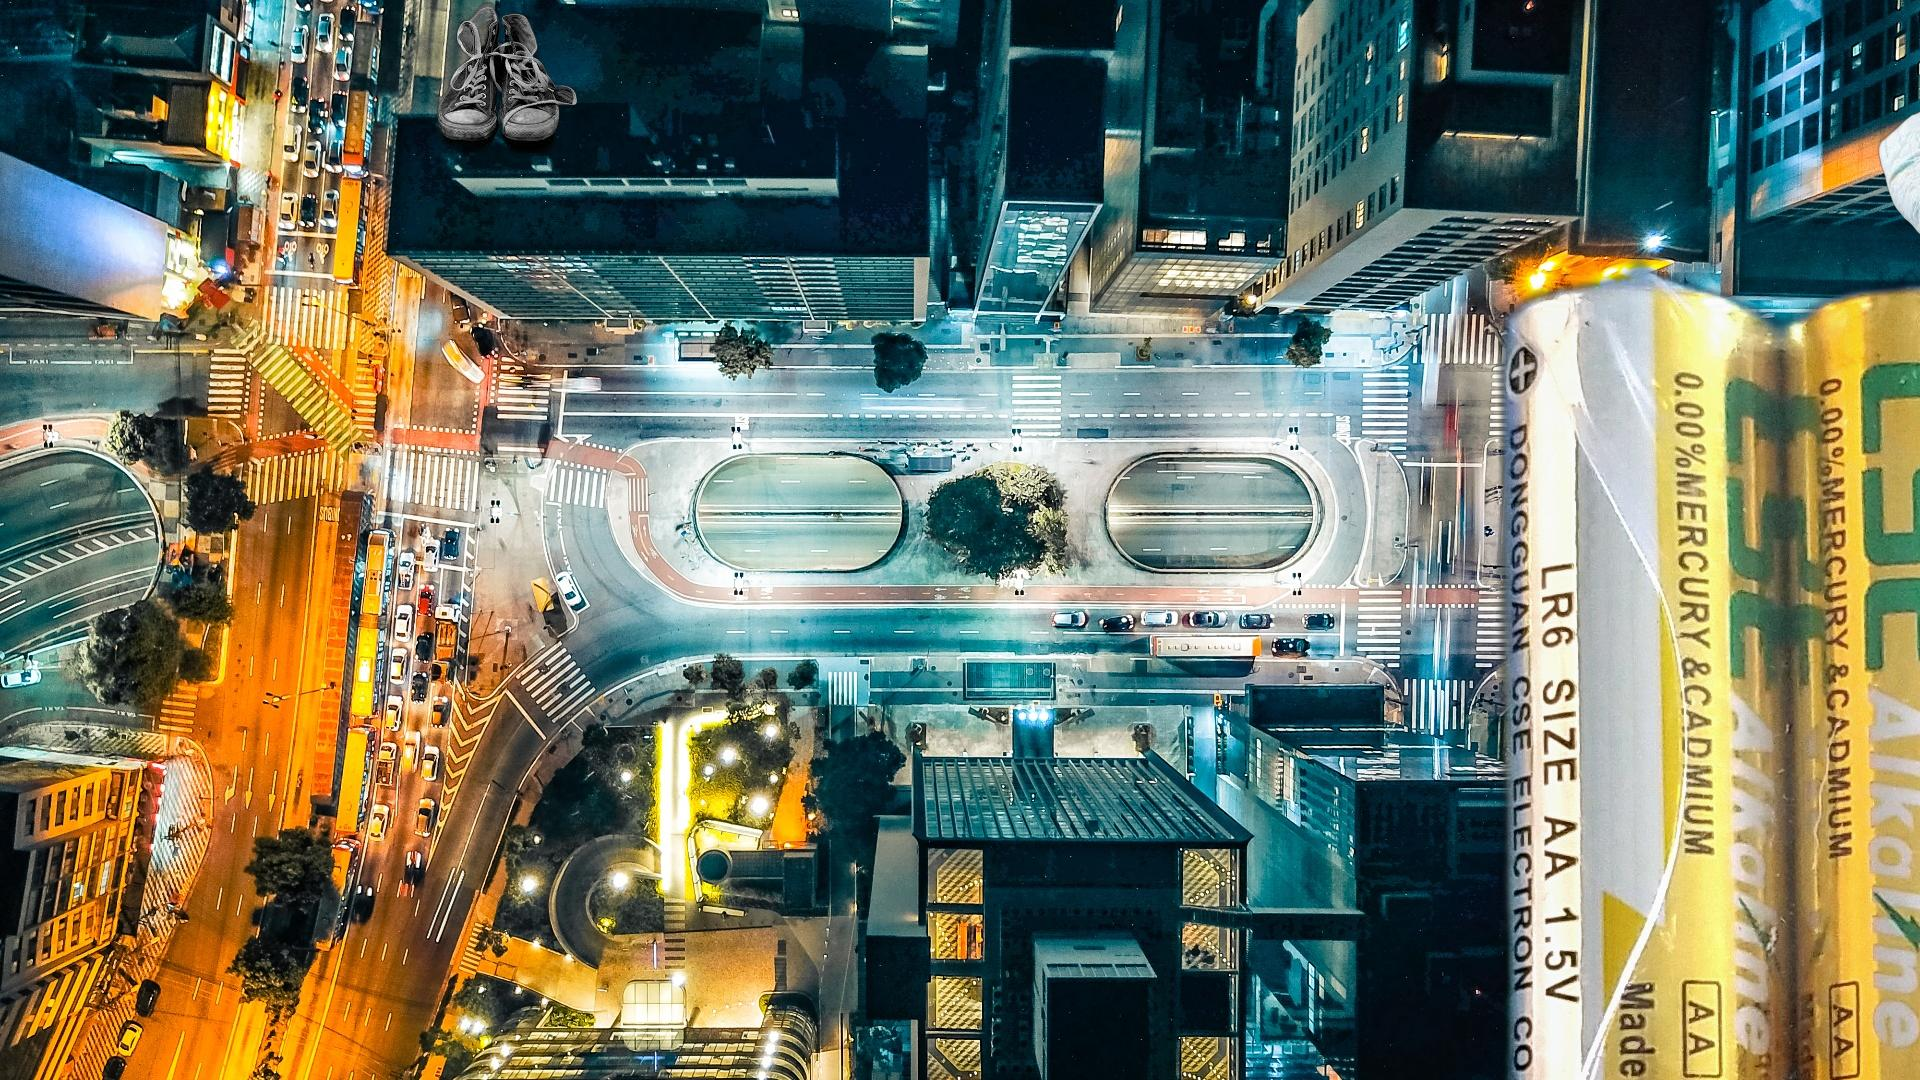battery: (1478, 243, 1920, 1080)
shoes: (434, 0, 580, 167)
trash: (1875, 91, 1920, 254)
